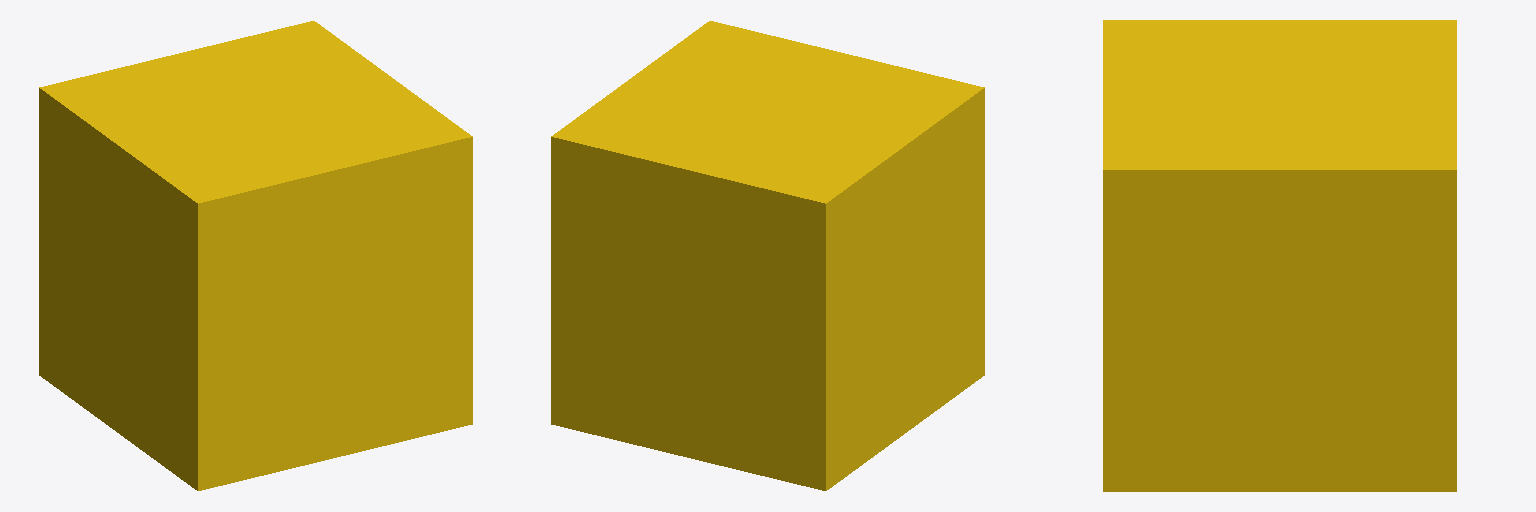
robot.urdf — yellow_cube:
<?xml version="1.0"?>
<!-- A yellow cube of 5 cm edge, 50 g. -->
<robot name="yellow_cube">
  <material name="yellow">
    <color rgba="0.95 0.80 0.10 1"/>
  </material>
  <link name="yellow_cube">
    <inertial>
      <mass value="0.05"/>
      <inertia ixx="2.08e-5" iyy="2.08e-5" izz="2.08e-5" ixy="0" ixz="0" iyz="0"/>
    </inertial>
    <visual>
      <geometry><box size="0.05 0.05 0.05"/></geometry>
      <material name="yellow"/>
    </visual>
    <collision>
      <geometry><box size="0.05 0.05 0.05"/></geometry>
    </collision>
  </link>
</robot>

--- What the picture shows (computed from the rendered views, not written in the file) ---
3 views of the same robot in one strip: view 1: azimuth 30°, elevation 25°; view 2: azimuth 150°, elevation 25°; view 3: azimuth 270°, elevation 25° (orthographic).
Robot: yellow_cube — 1 links, 0 joints (none); root link yellow_cube; default pose: every joint at zero.
Visible links, largest first — view 1: yellow_cube; view 2: yellow_cube; view 3: yellow_cube.
Link boxes in pixels (left/top/right/bottom): yellow_cube: left=39, top=21, right=472, bottom=490; yellow_cube: left=551, top=21, right=984, bottom=490; yellow_cube: left=1103, top=20, right=1456, bottom=491.
Bounding box of the posed robot: 0.05 × 0.05 × 0.05 m (x, y, z).
Geometry: primitives only (box / cylinder / sphere), no mesh files.
